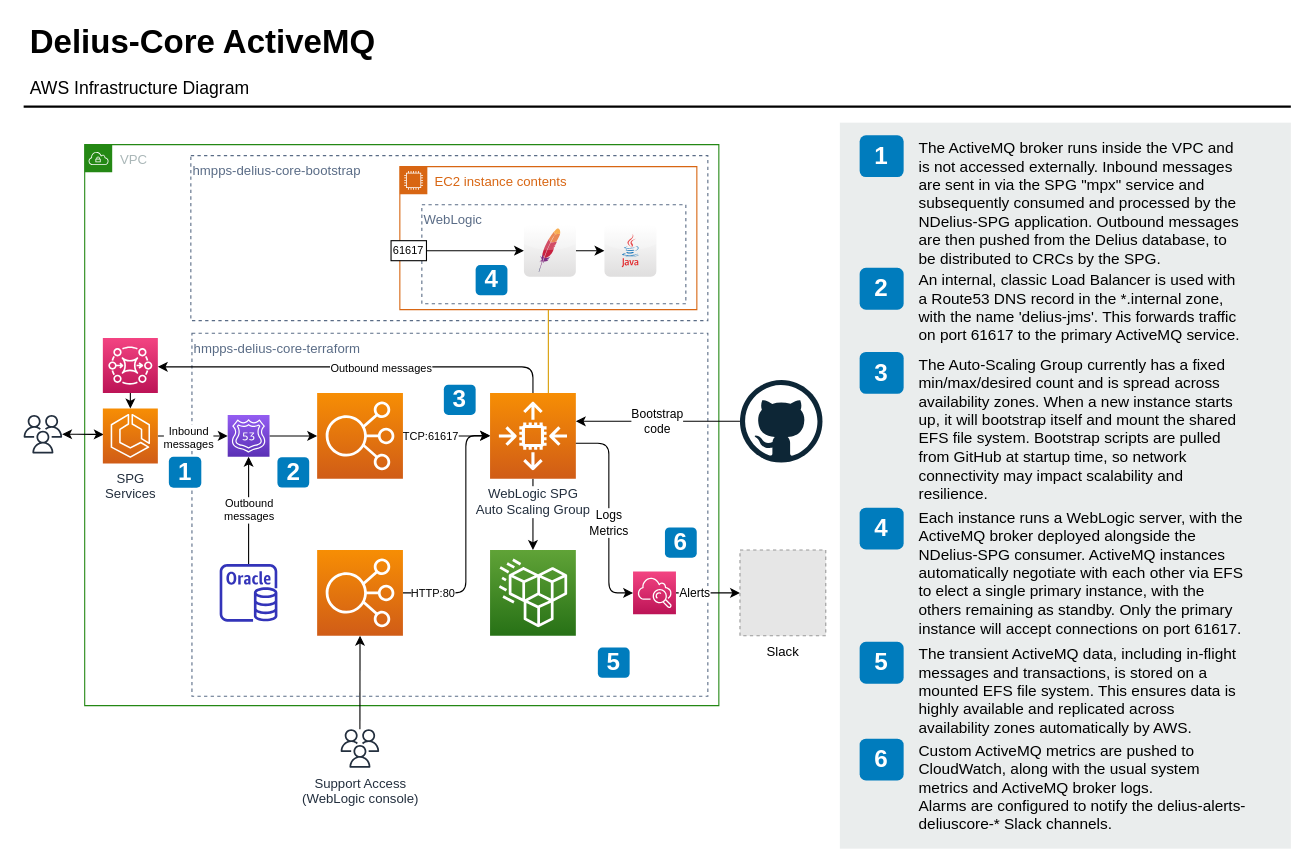
Image size: 1311x868. Some labels were removed from this diagram. Grey dashed boxes stand in for pictures. Each missing label, with the centre of its shape:
ActiveMQ: point (549, 250)
AmazonMQ: point (130, 365)
CloudWatch: point (654, 592)
CRC systems: point (42, 433)
Delius OracleDB: point (248, 592)
delius-jms.*.internal: point (248, 435)
EFS Message Storage: point (532, 592)
GitHub: point (780, 421)
Internal Application Load Balancer: point (359, 592)
Internal Classic Load Balancer: point (359, 435)
NDelius-SPG: point (629, 250)
